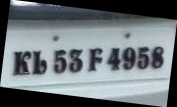character: (12, 50, 31, 76), (51, 49, 67, 74), (31, 49, 46, 75), (68, 48, 83, 73), (88, 47, 103, 72), (105, 47, 121, 70), (122, 45, 136, 71), (151, 45, 165, 68), (136, 46, 149, 69)
